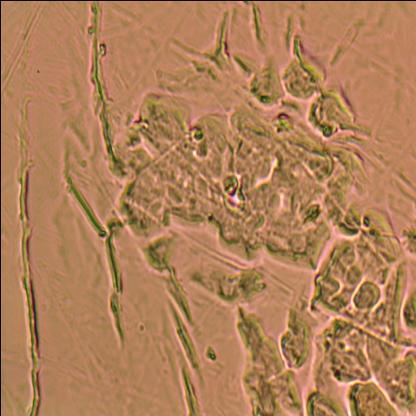Stage I: (147, 82, 416, 416)
